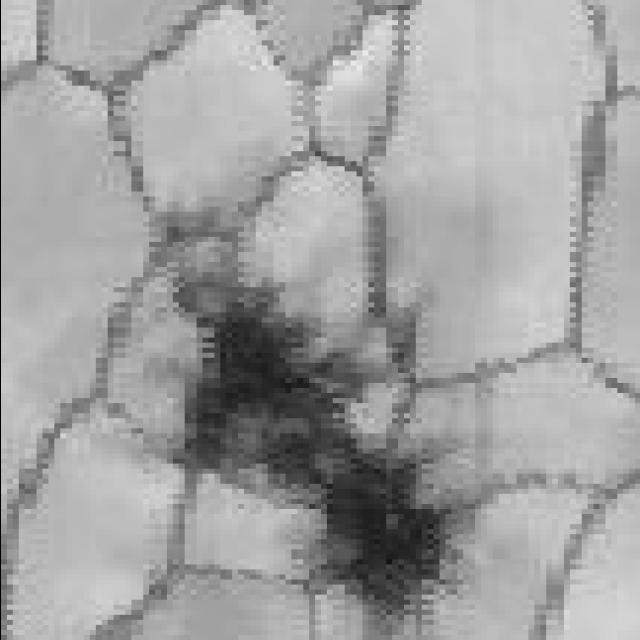good_void: (145, 222, 472, 625)
